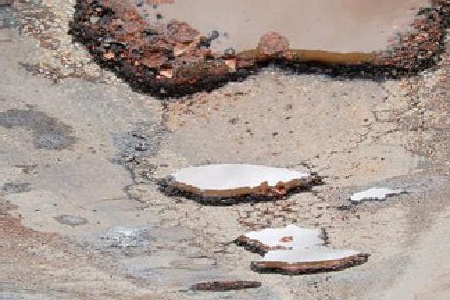pothole: (66, 0, 449, 102), (153, 164, 328, 210), (231, 224, 370, 277), (347, 188, 407, 206), (187, 279, 263, 293)
